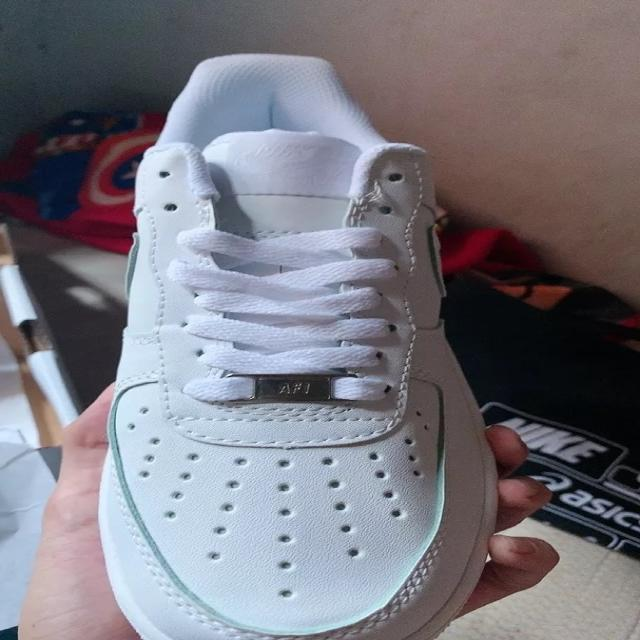nike fake air force: (96, 51, 500, 640)
